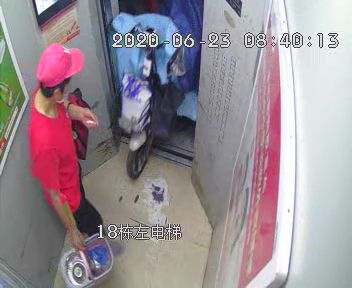Electric-bicycle: (114, 12, 186, 175)
